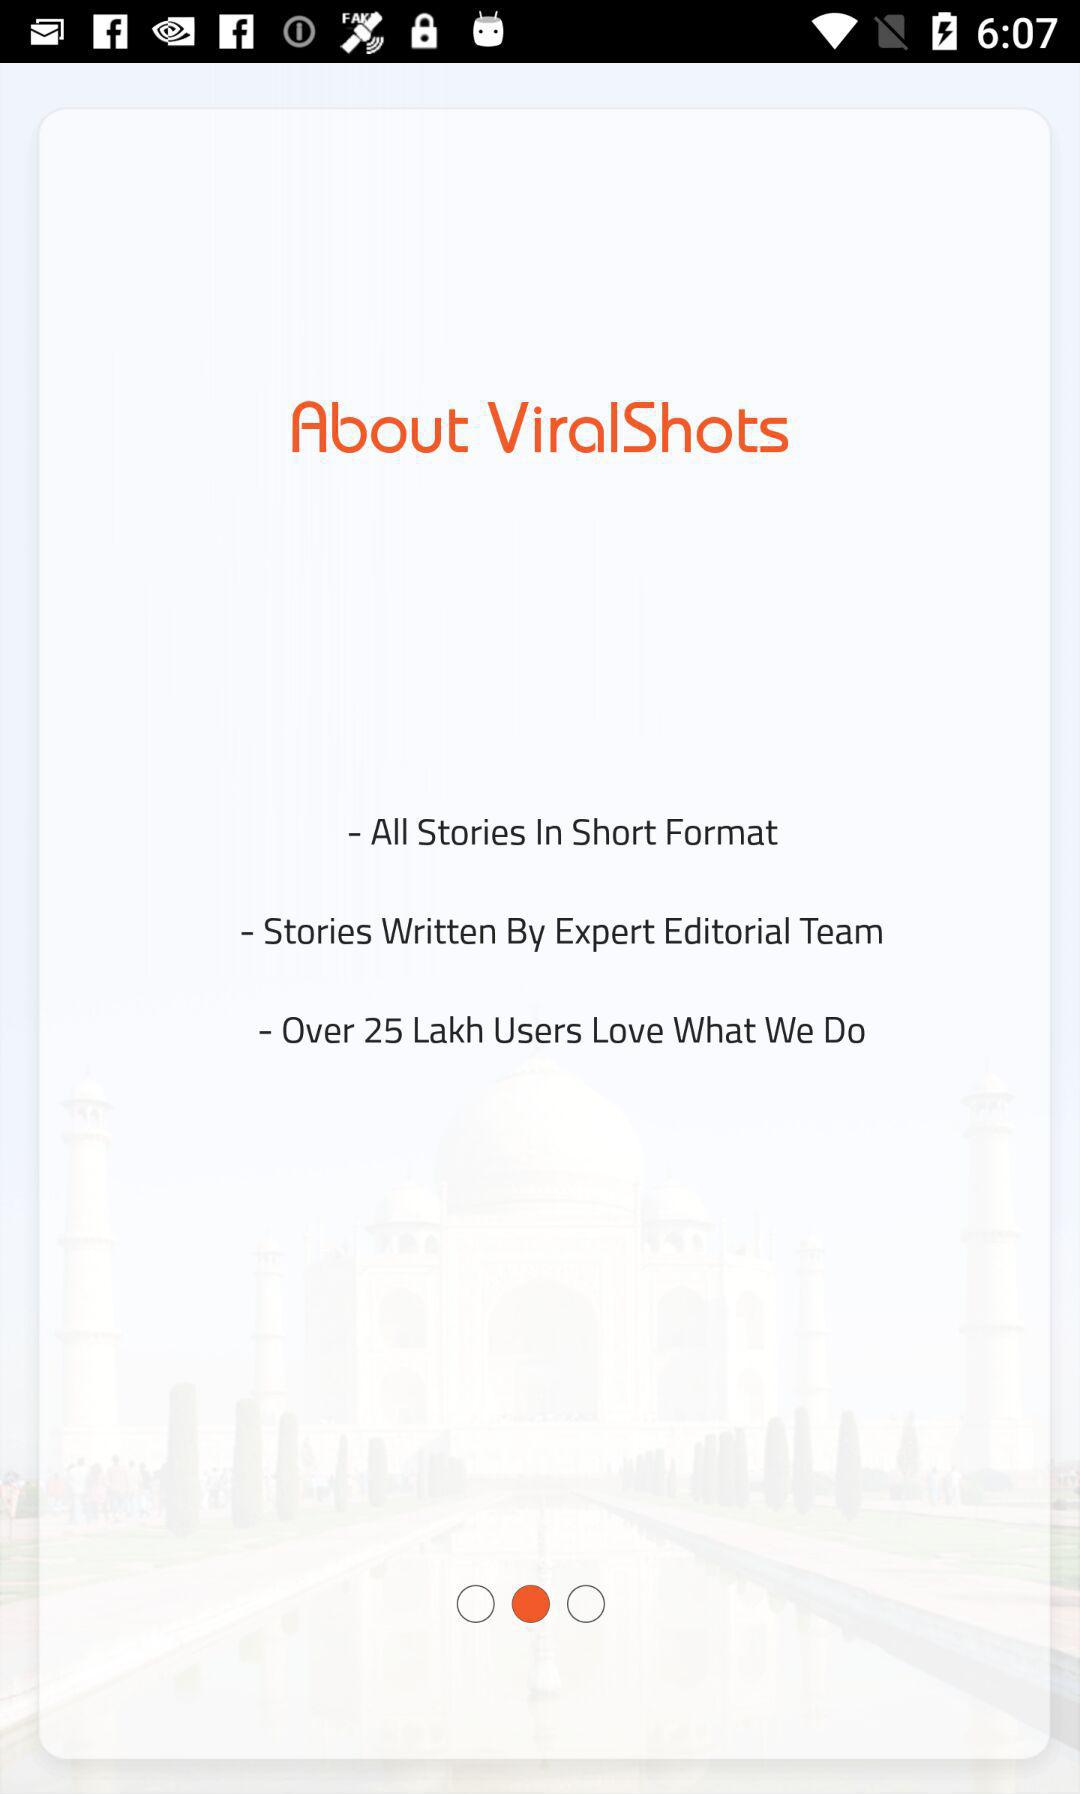PageIndicator: (456, 1583, 607, 1625)
Text: (292, 400, 789, 455), (240, 916, 883, 953), (259, 1015, 866, 1044), (348, 818, 779, 847)
UpperTaskBar: (1, 1, 1080, 64)
